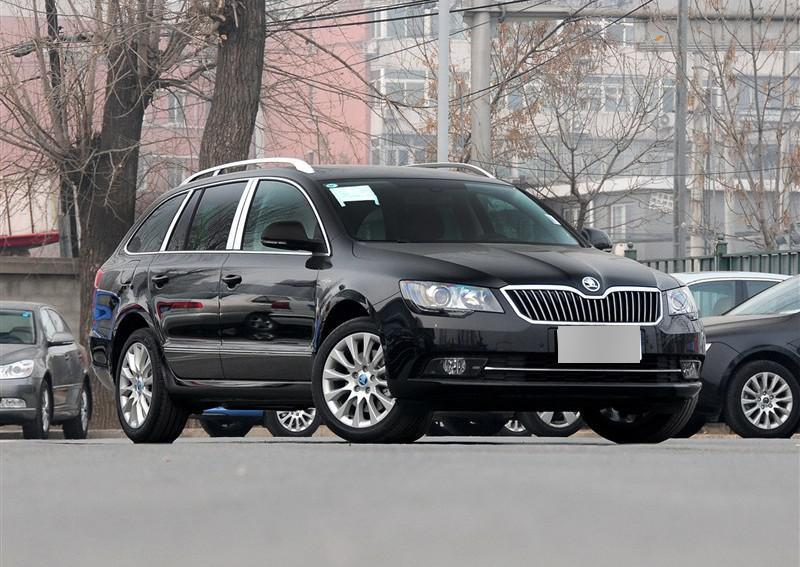Wagon: (87, 157, 705, 444)
